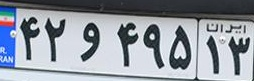character: (167, 20, 195, 74), (42, 13, 69, 65), (114, 18, 140, 71), (142, 21, 167, 72), (18, 13, 42, 65), (225, 33, 251, 78), (77, 17, 102, 63), (201, 33, 224, 77)
